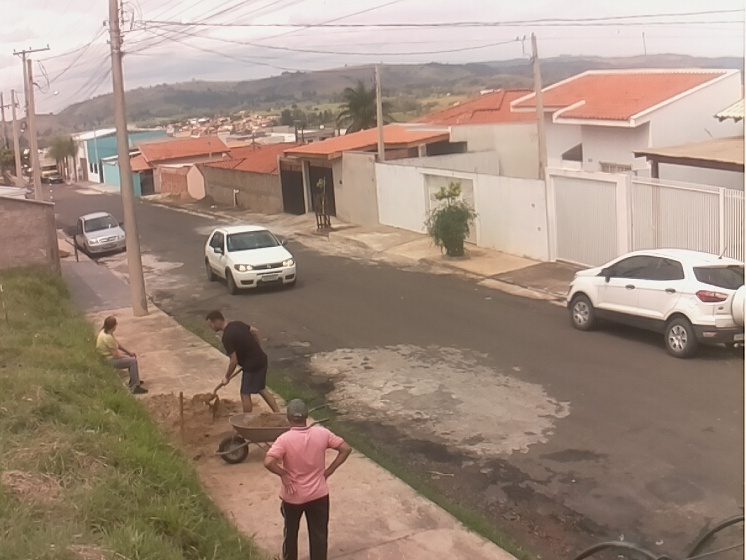person: (264, 397, 352, 560), (204, 309, 283, 416), (93, 314, 148, 396)
